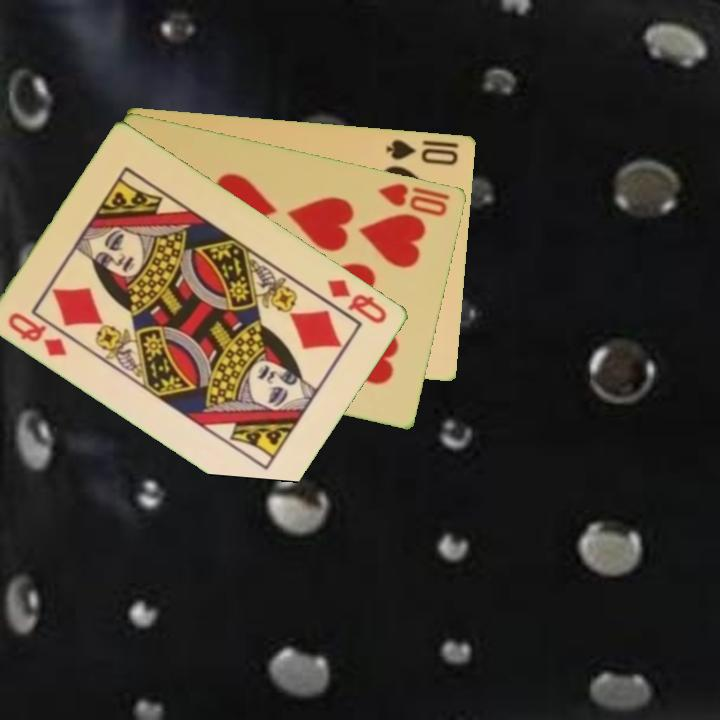10h: (375, 179, 453, 219)
10s: (383, 135, 461, 168)
Qd: (324, 275, 391, 327), (5, 308, 71, 360)
